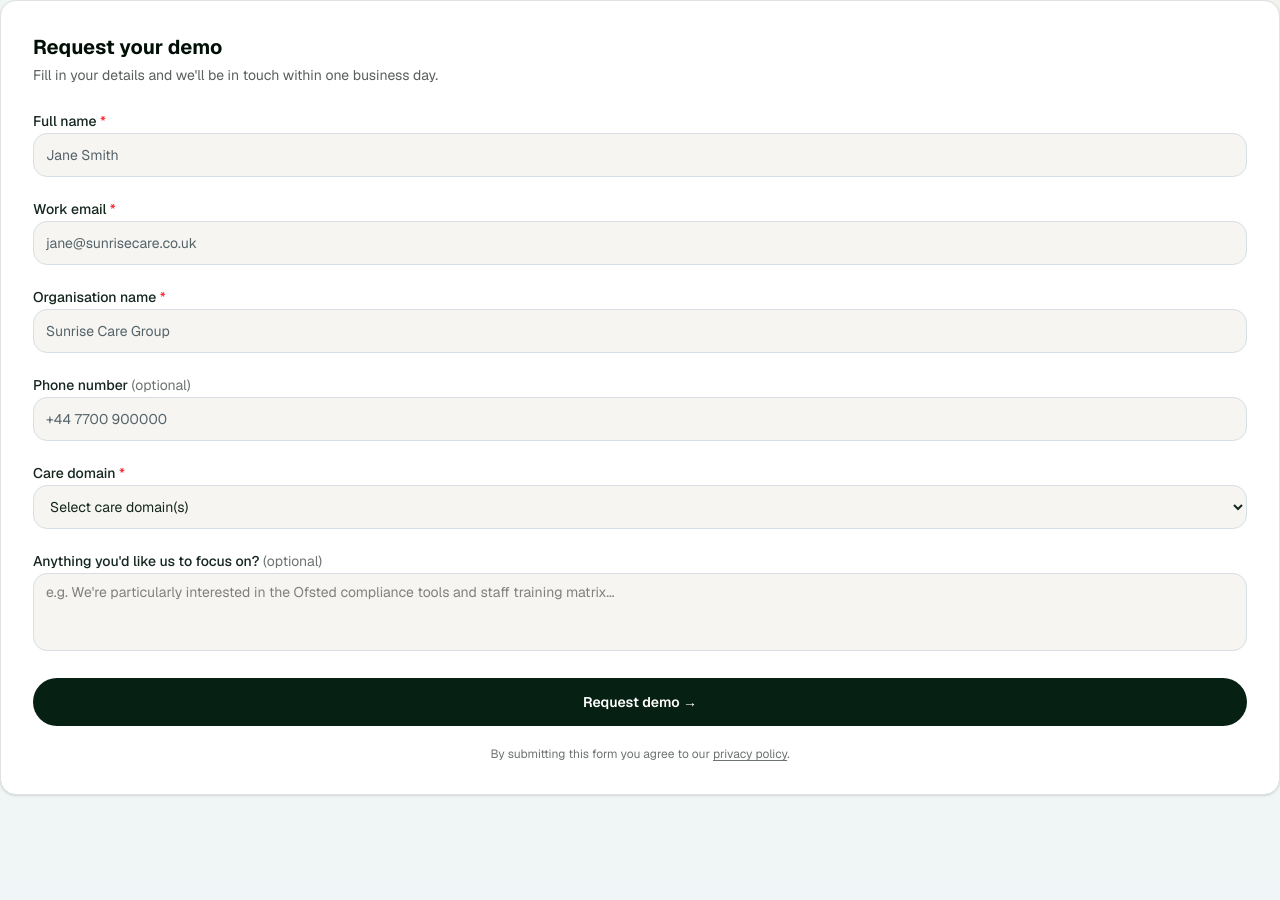
Test: DemoBookingForm › shows validation error when name is empty and form submitted
The image size is (1280, 900).
Step 1. Click the button "Request demo →" → (640, 702), box [33, 678, 1247, 726]
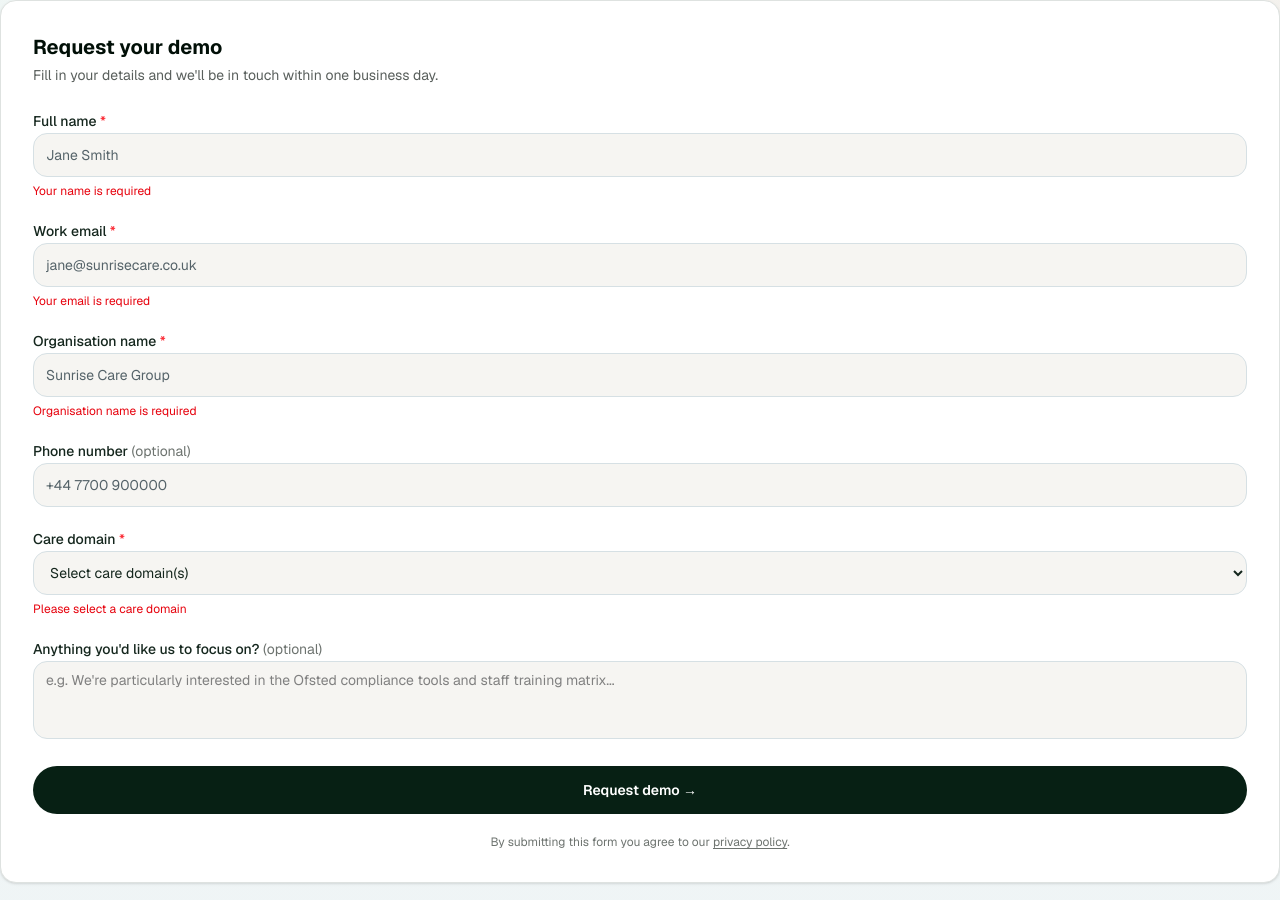
Expected: the text "Your name is required" is shown, [33, 183, 151, 199]
